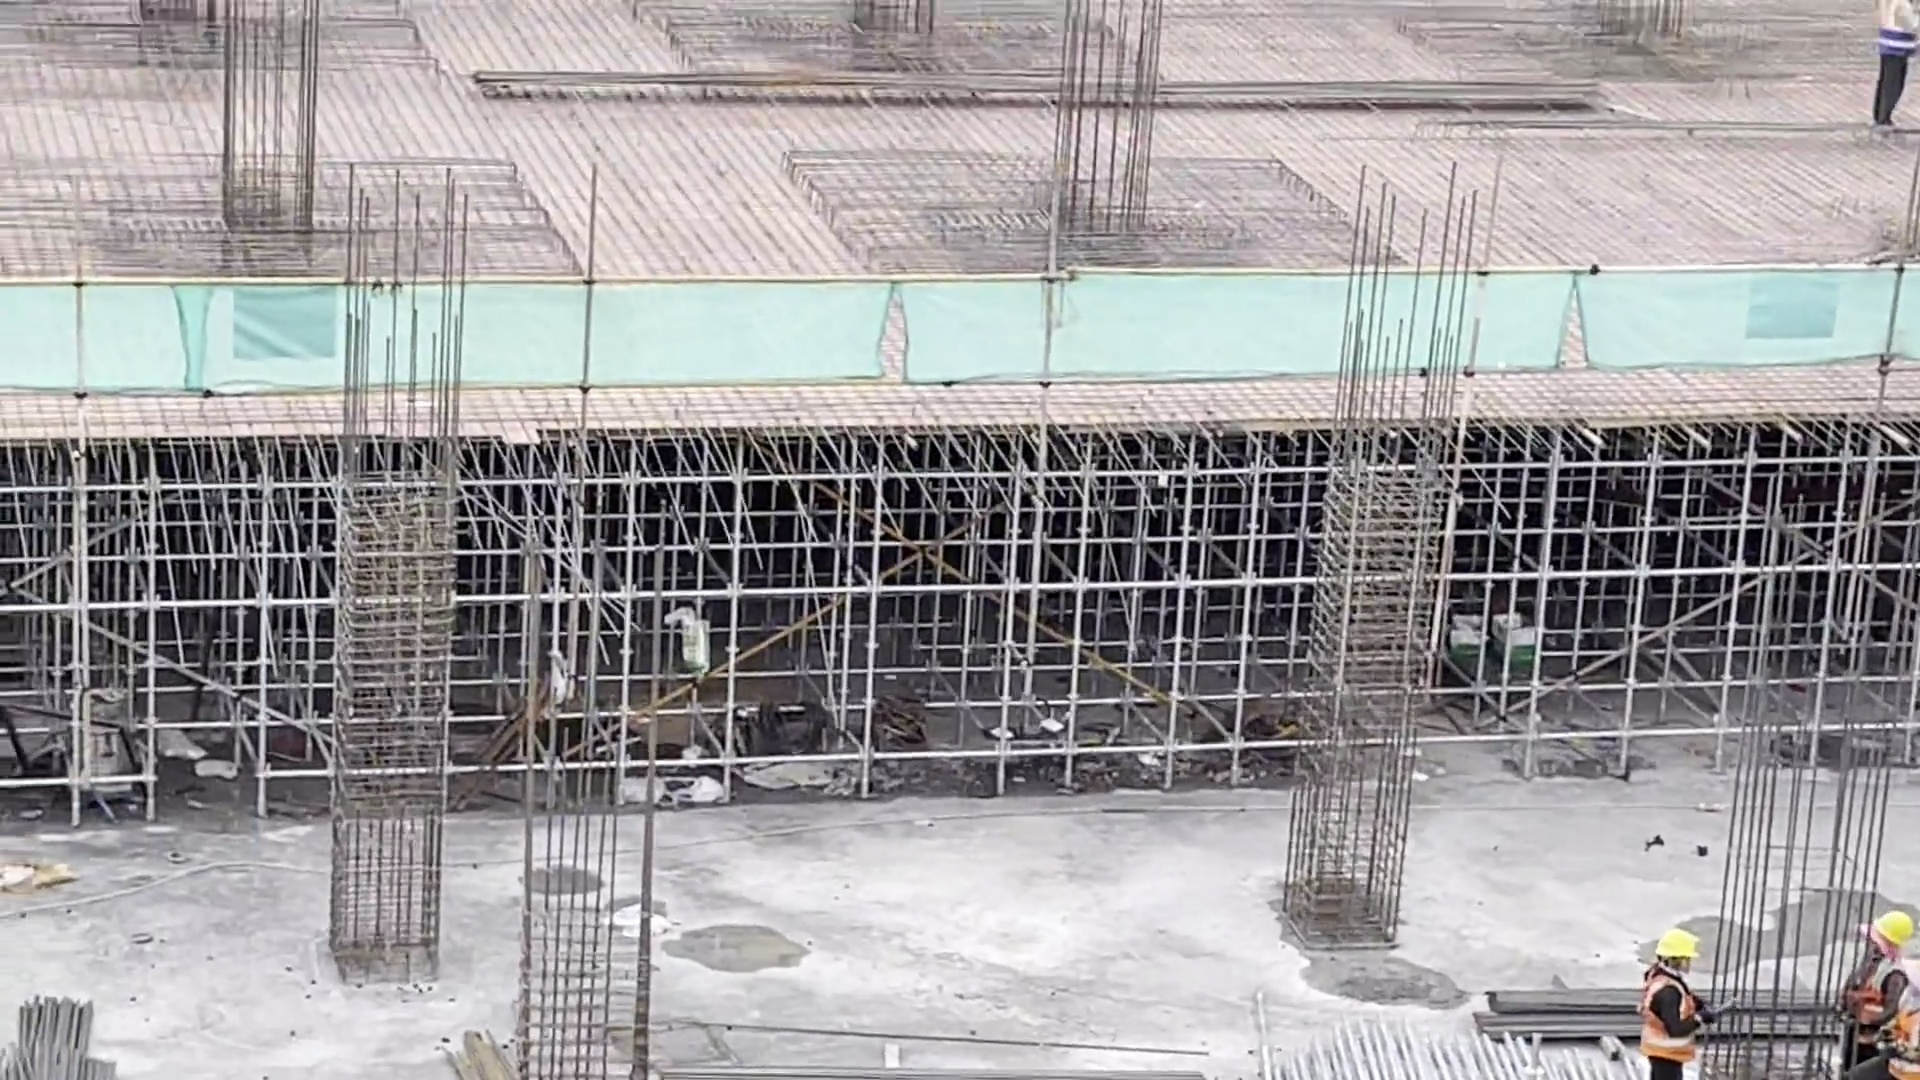helmet: (1653, 915, 1712, 964), (1869, 909, 1914, 955)
person: (1625, 911, 1719, 1078), (1841, 899, 1916, 1077), (1865, 2, 1920, 128)
vest: (1637, 976, 1701, 1071), (1854, 962, 1912, 1054)
